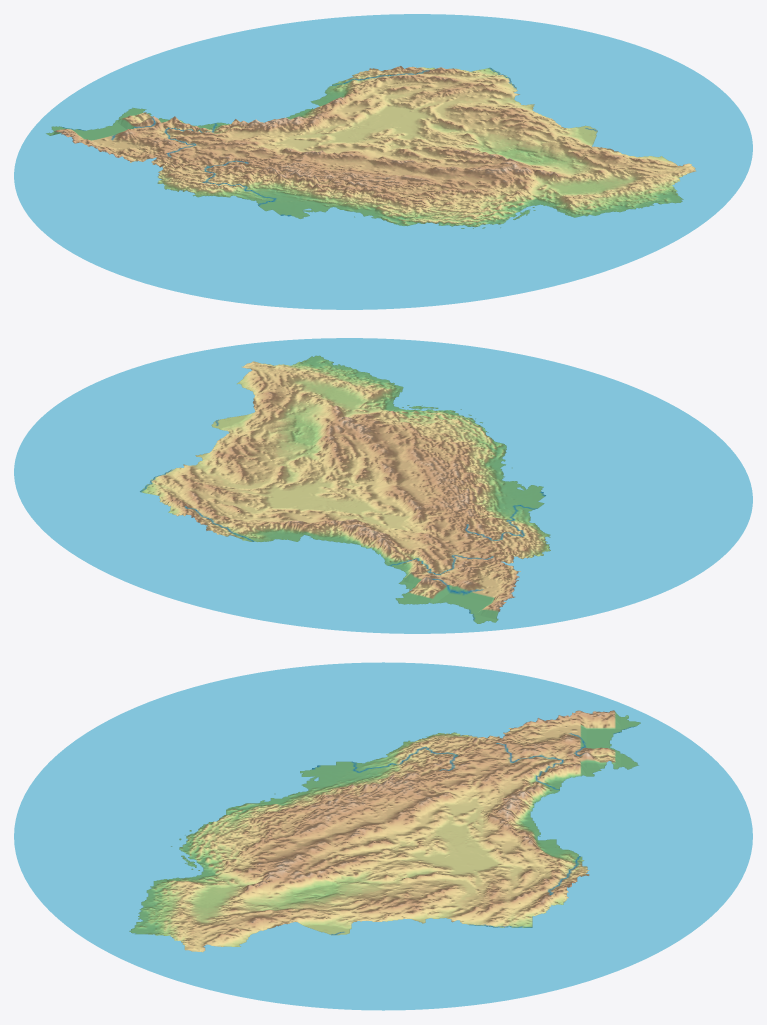
Rendered from IRN-terrain.glb.
3 renders of one model, top to bottom at view 1: azimuth 30°, elevation 25°; view 2: azimuth 150°, elevation 25°; view 3: azimuth 270°, elevation 25°, orthographic. The views are drawn at different scales.
Parts seen in each view (by area): view 1: Relevo com hidrografia; view 2: Relevo com hidrografia; view 3: Relevo com hidrografia.
Boxes of the visible parts, bbox=[...] form: Relevo com hidrografia: bbox=[14, 14, 752, 309]; Relevo com hidrografia: bbox=[14, 338, 752, 633]; Relevo com hidrografia: bbox=[14, 662, 752, 1010].
Bounding box in the file's own units: 2.34 × 0.0376 × 2.1.
2 materials, 1 textured.
